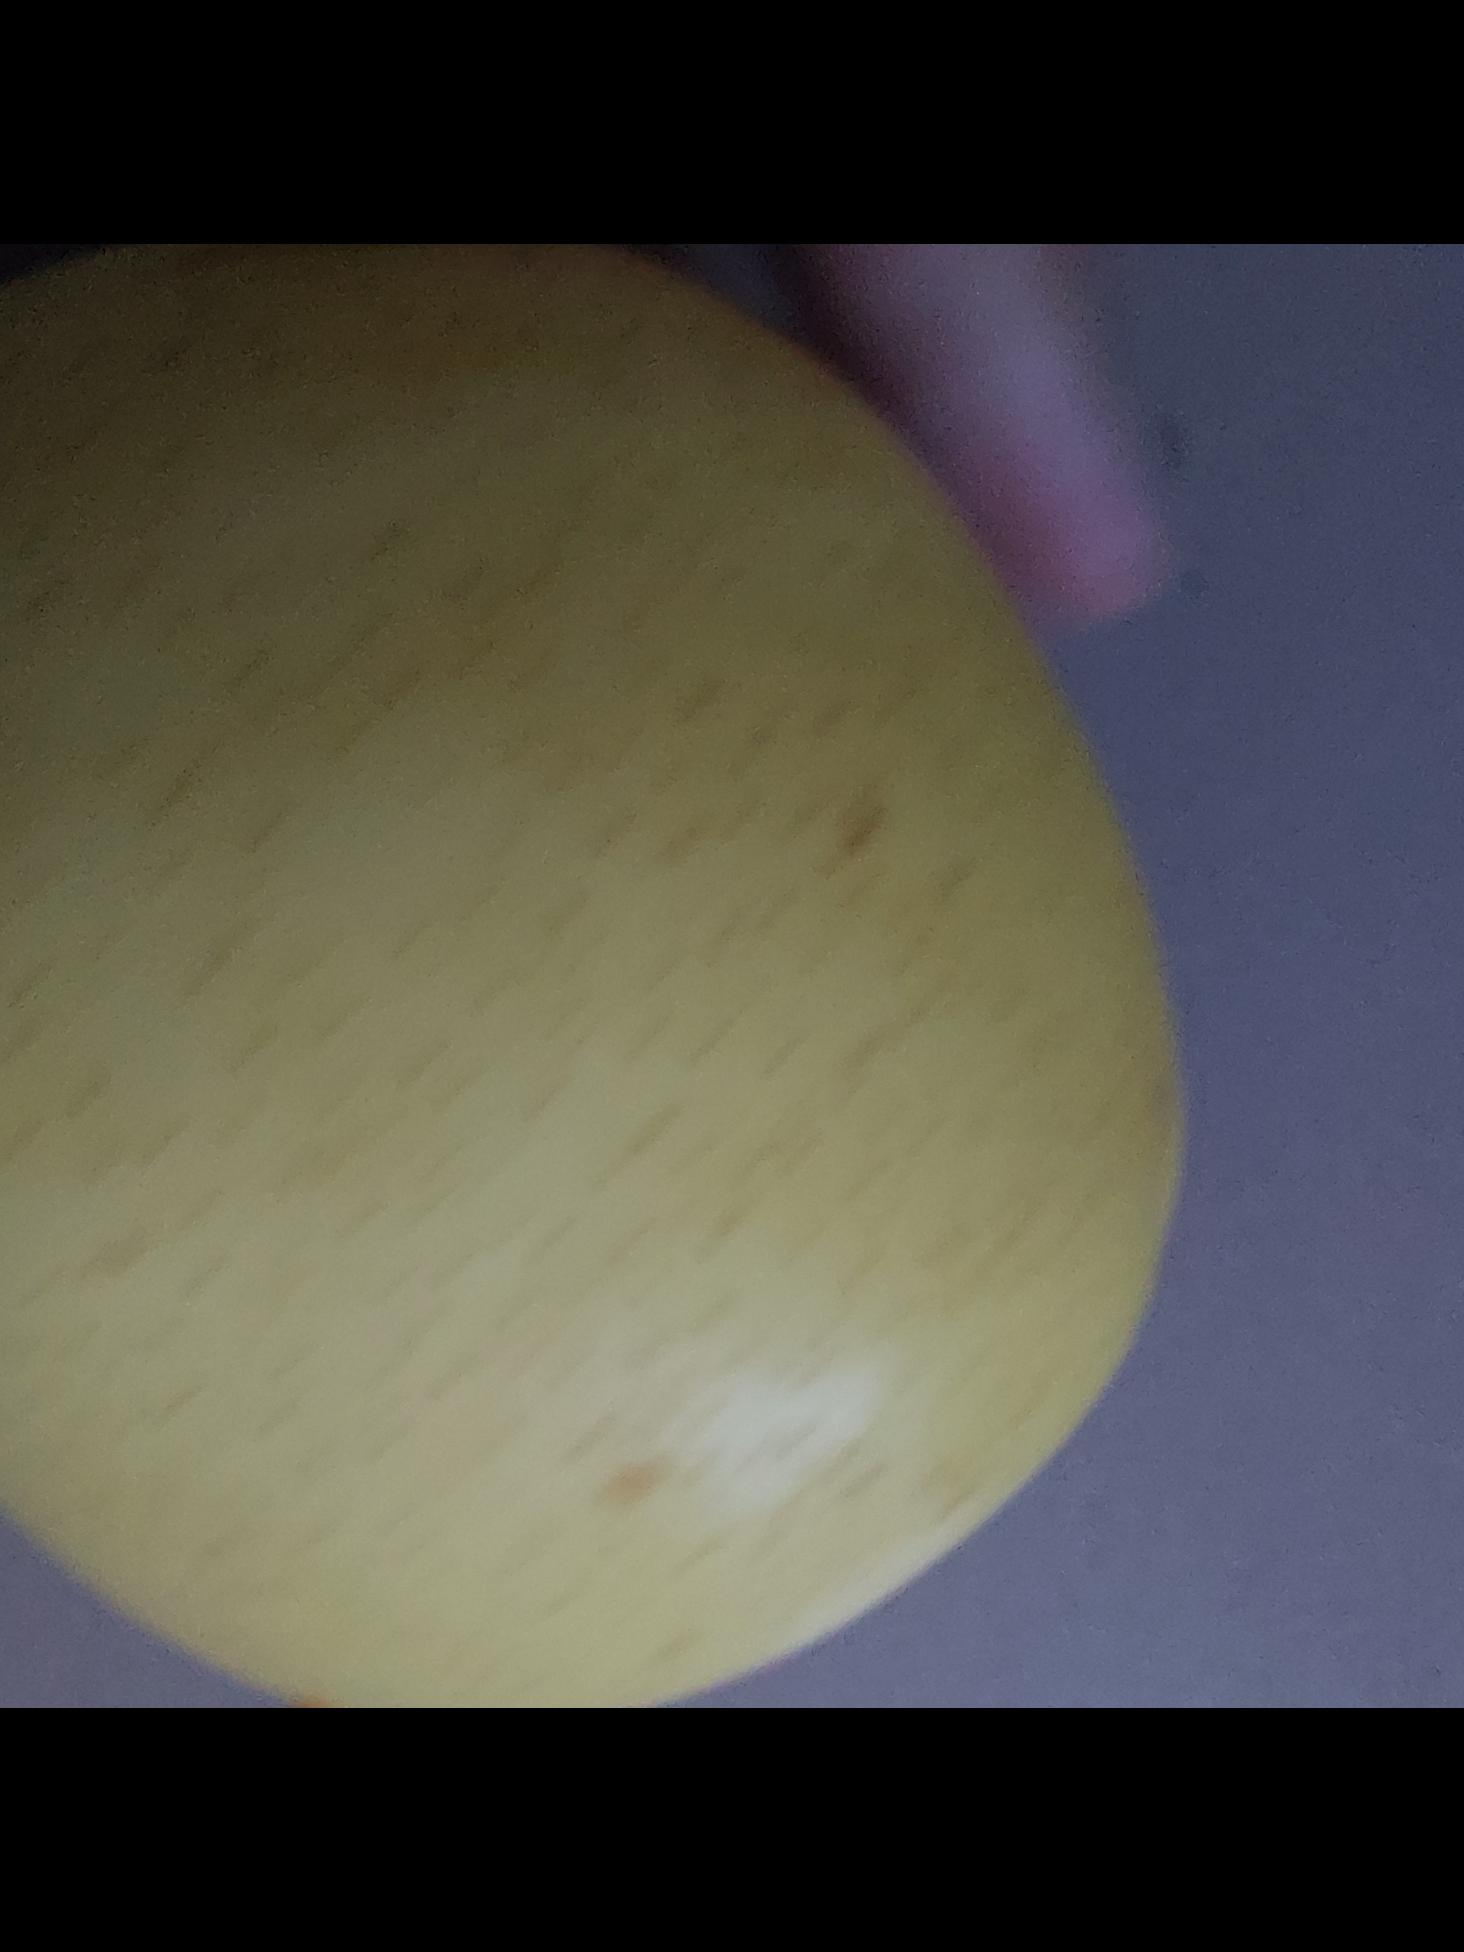Good Pear: (0, 255, 1201, 1708)
